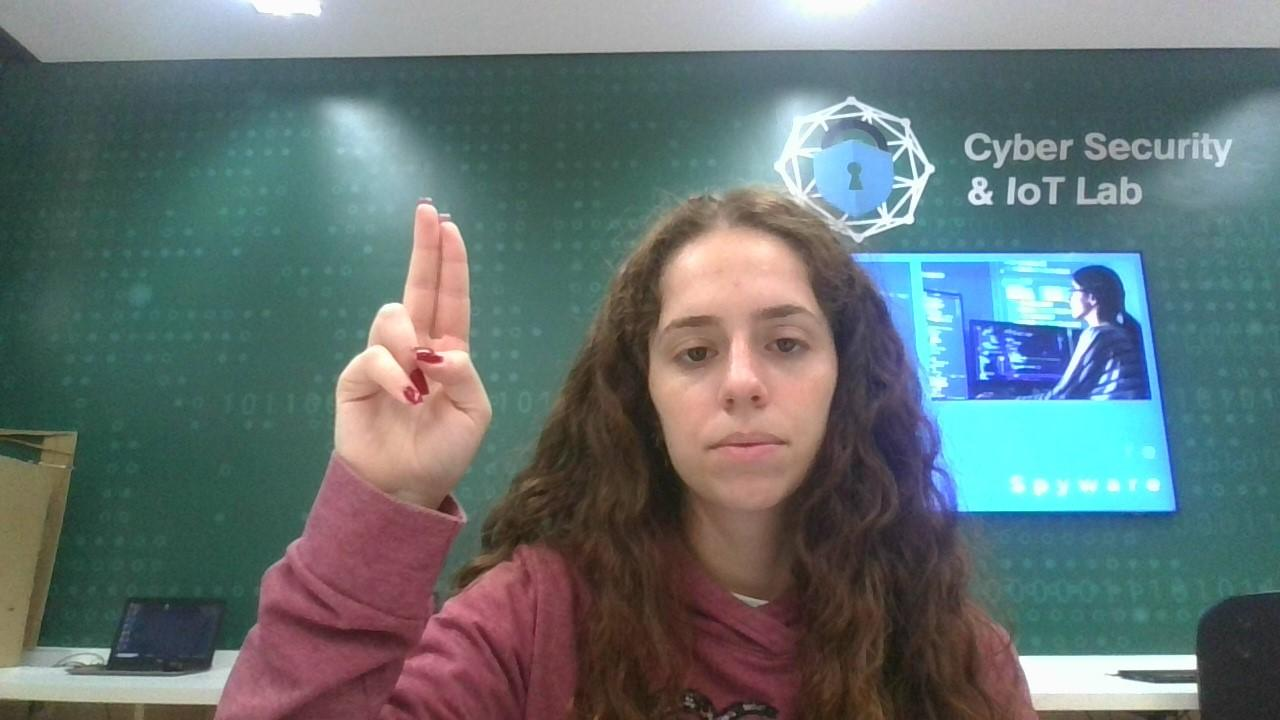U: (325, 195, 498, 495)
